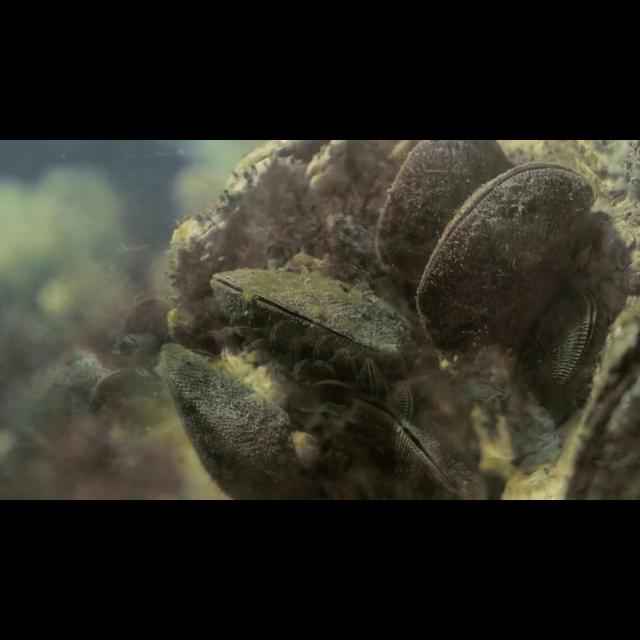Oyster-Closed: (417, 159, 615, 390), (154, 330, 329, 498), (200, 252, 422, 384), (370, 140, 522, 293), (524, 280, 603, 395), (358, 354, 391, 401), (384, 380, 415, 425), (309, 331, 346, 365), (266, 318, 298, 357), (333, 348, 358, 384), (287, 334, 314, 366)
Oyster-Open: (341, 388, 482, 499)
